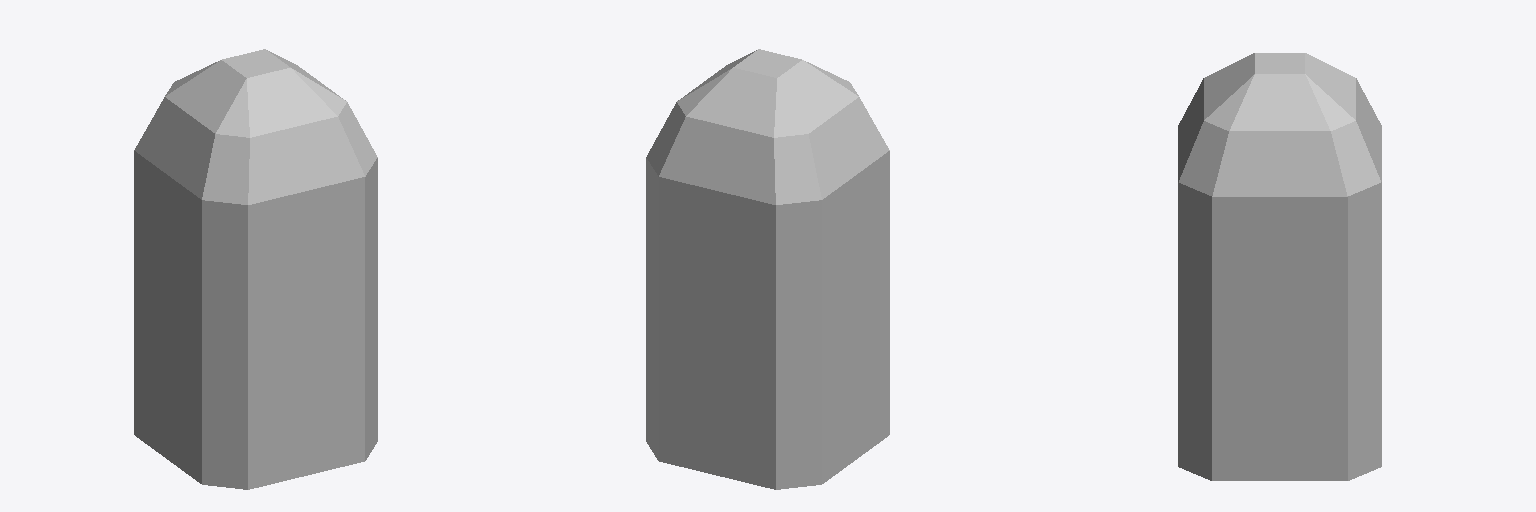
The model's file is GrowthPot.obj.
The picture shows the model from 3 angles: view 1: azimuth 30°, elevation 25°; view 2: azimuth 150°, elevation 25°; view 3: azimuth 270°, elevation 25°; orthographic projection.
Parts seen in each view (by area): view 1: Cube.001; view 2: Cube.001; view 3: Cube.001.
Boxes of the visible parts, box(x1,y1,x2,y2) form: Cube.001: box(134, 49, 377, 489); Cube.001: box(646, 49, 889, 489); Cube.001: box(1178, 53, 1381, 480).
Bounding box in the file's own units: 0.9375 × 1.96 × 0.9375.